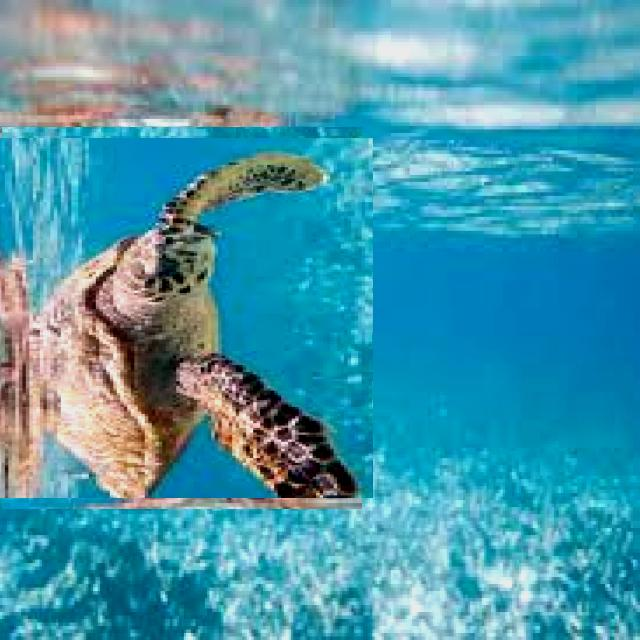Sea turtle: (0, 132, 367, 503)
